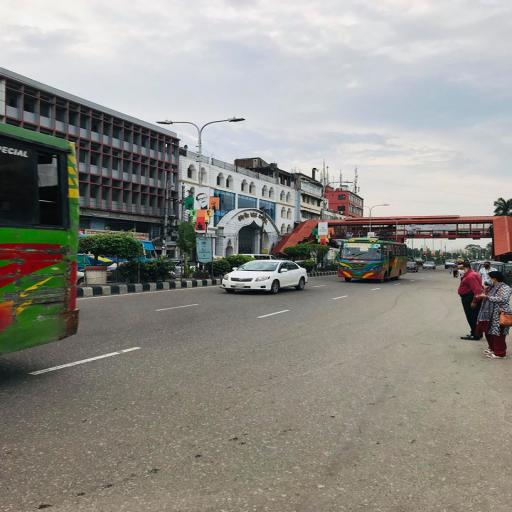bus: (1, 116, 84, 364), (335, 238, 409, 287)
car: (218, 259, 310, 298)
suv: (422, 262, 438, 271)
